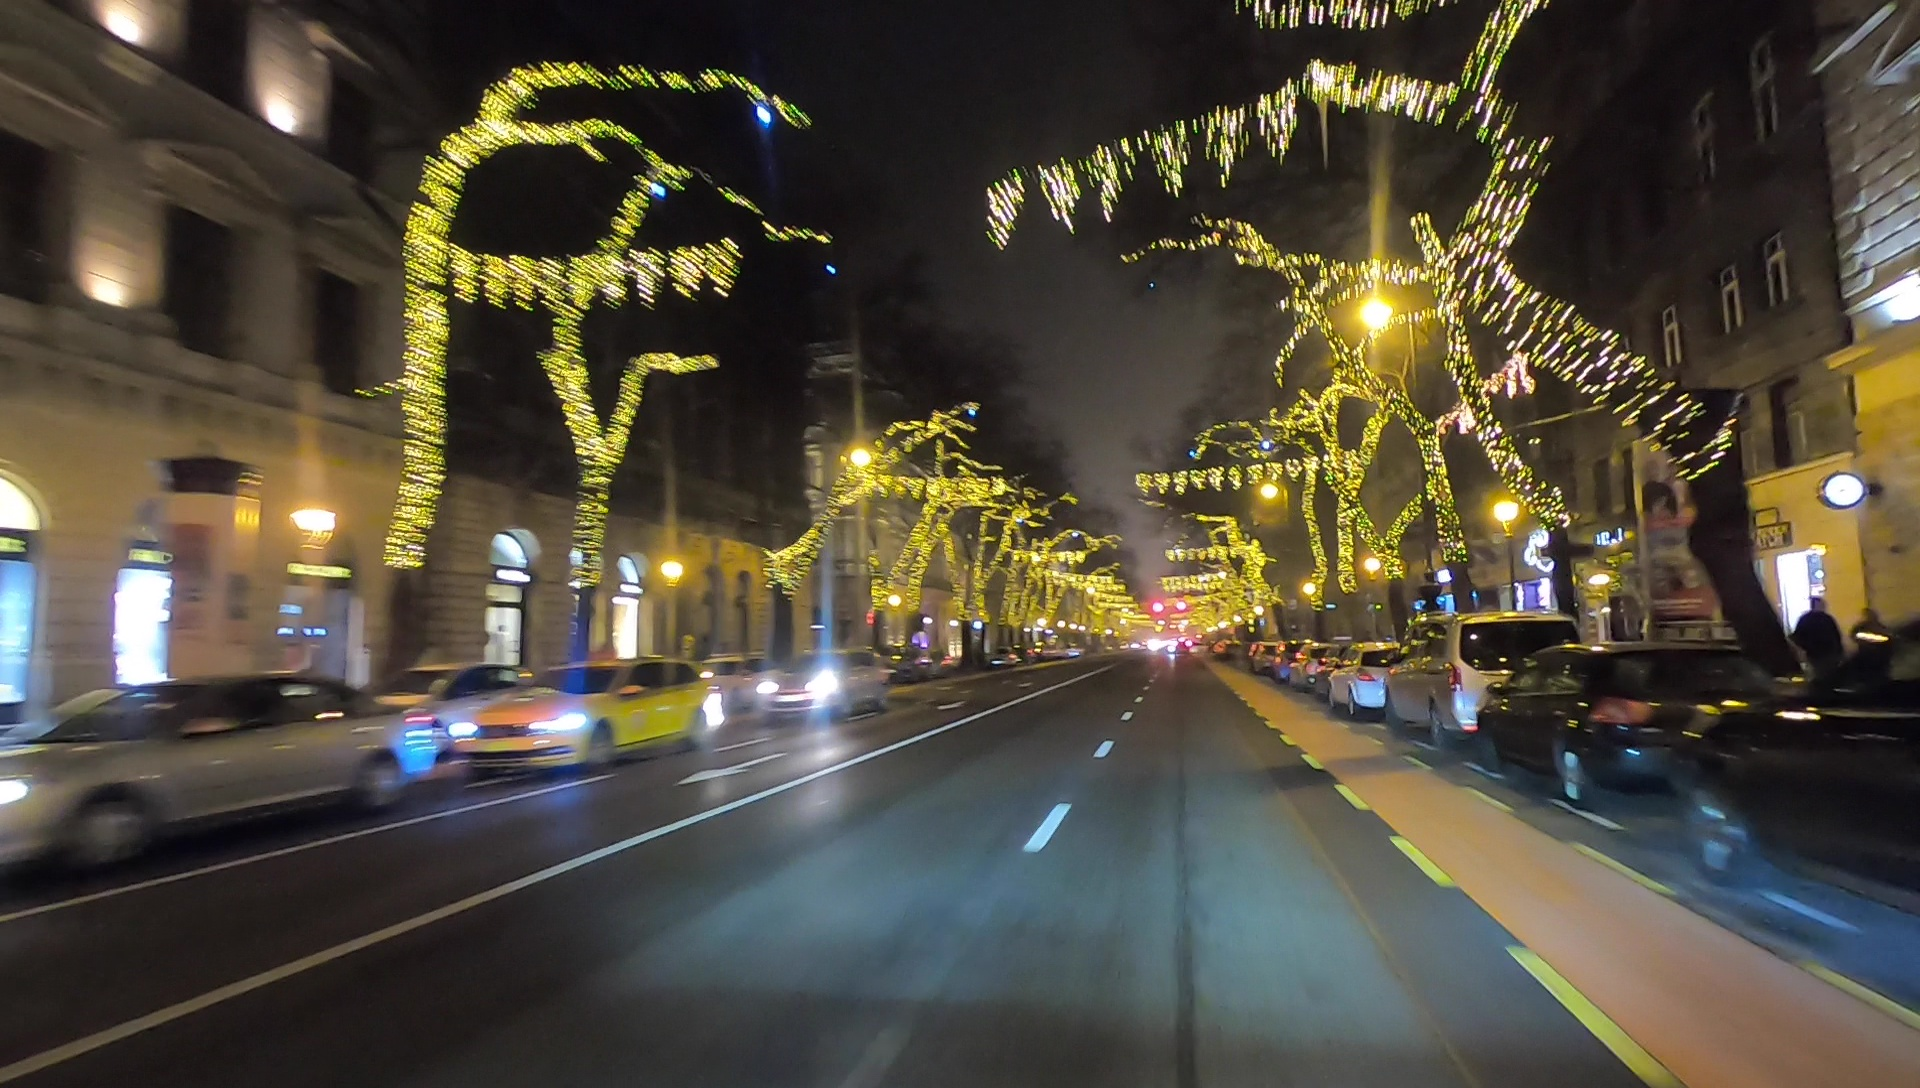person: (1795, 597, 1841, 711)
